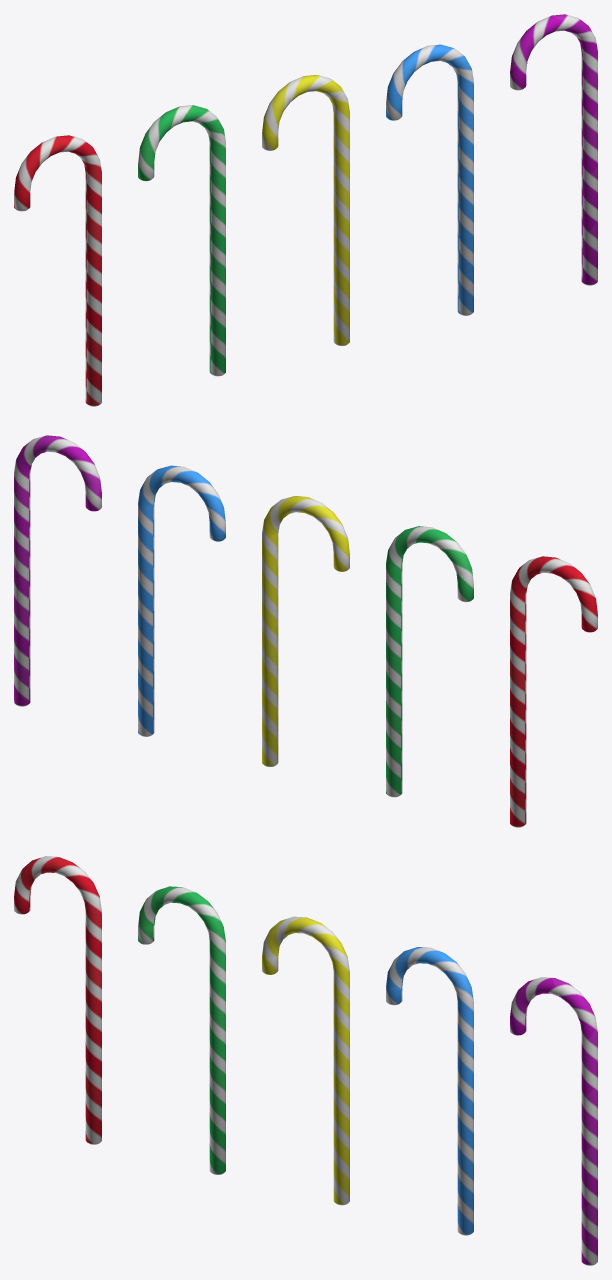
File: uploads_files_5617095_Candy_Cane.fbx
3 renders of one model, top to bottom at view 1: azimuth 30°, elevation 25°; view 2: azimuth 150°, elevation 25°; view 3: azimuth 330°, elevation 25°, orthographic.
Parts seen in each view (by area): view 1: Pink, Red, Blue, Green, Yellow; view 2: Pink, Red, Blue, Green, Yellow; view 3: Pink, Blue, Green, Red, Yellow.
Boxes of the visible parts, box(x1,y1,x2,y2) form: Pink: box(510, 14, 597, 285); Red: box(14, 135, 101, 406); Blue: box(386, 44, 473, 315); Green: box(138, 105, 225, 376); Yellow: box(262, 75, 349, 345); Pink: box(14, 435, 101, 706); Red: box(510, 556, 597, 827); Blue: box(138, 465, 225, 736); Green: box(386, 526, 473, 797); Yellow: box(262, 496, 349, 766); Pink: box(510, 977, 597, 1265); Blue: box(386, 947, 473, 1235); Green: box(138, 886, 225, 1174); Red: box(14, 856, 101, 1144); Yellow: box(262, 916, 349, 1205).
Bounding box in the file's own units: 288 × 131 × 7.06.
